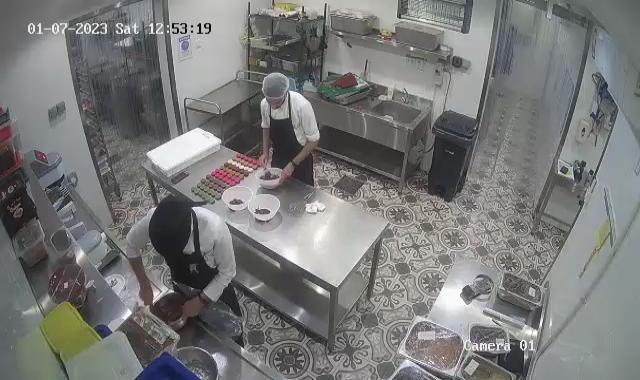hairnet: (262, 73, 294, 110)
no_hairnet: (146, 194, 197, 258)
